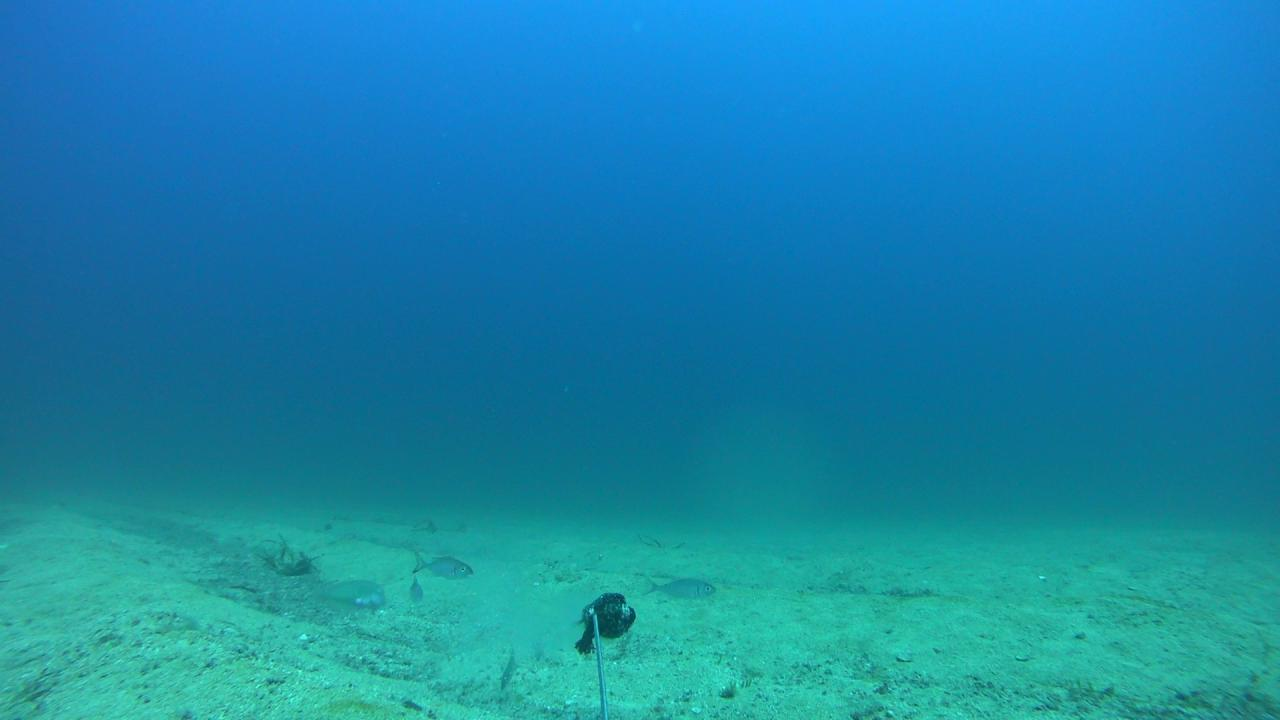pagellus: (641, 573, 717, 603), (411, 547, 474, 580)
